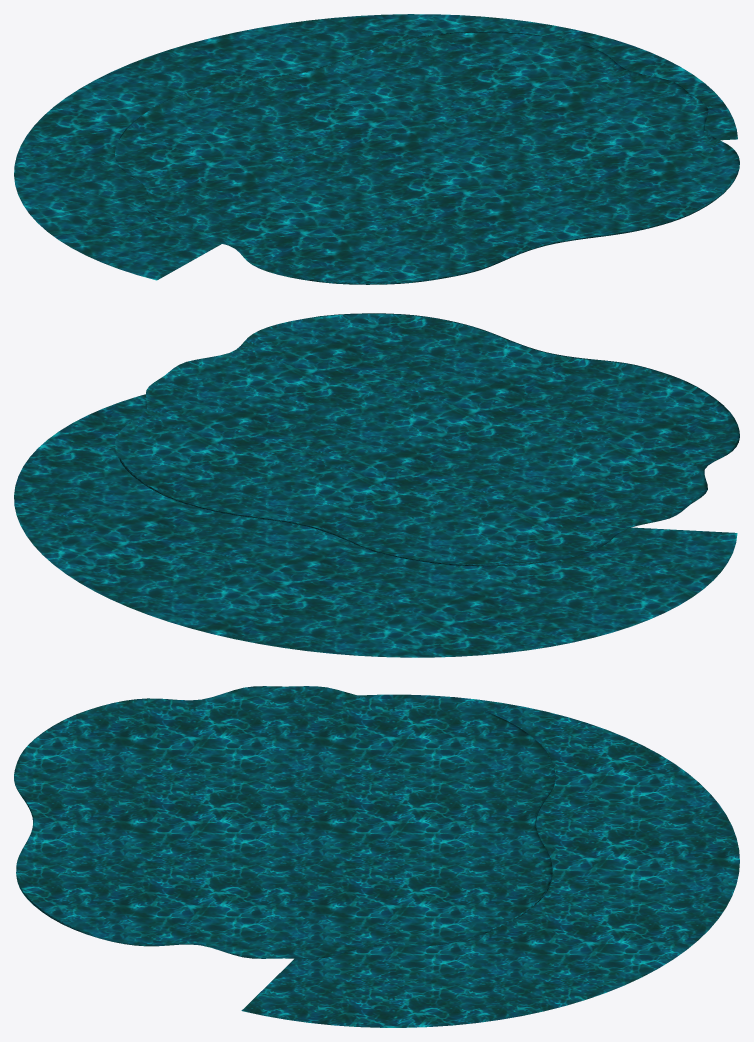
Rendered from 0016_Bountain02New.obj.
3 renders of one model, top to bottom at view 1: azimuth 30°, elevation 25°; view 2: azimuth 150°, elevation 25°; view 3: azimuth 270°, elevation 25°, orthographic. The views are drawn at different scales.
Visible parts, largest first — view 1: pool_Mesh.011; view 2: pool_Mesh.011; view 3: pool_Mesh.011.
Boxes of the visible parts, <box> form: pool_Mesh.011: <box>14,14,739,284</box>; pool_Mesh.011: <box>14,313,739,657</box>; pool_Mesh.011: <box>14,686,739,1027</box>.
Size of the model in its own units: 282 by 15.72 by 259.
